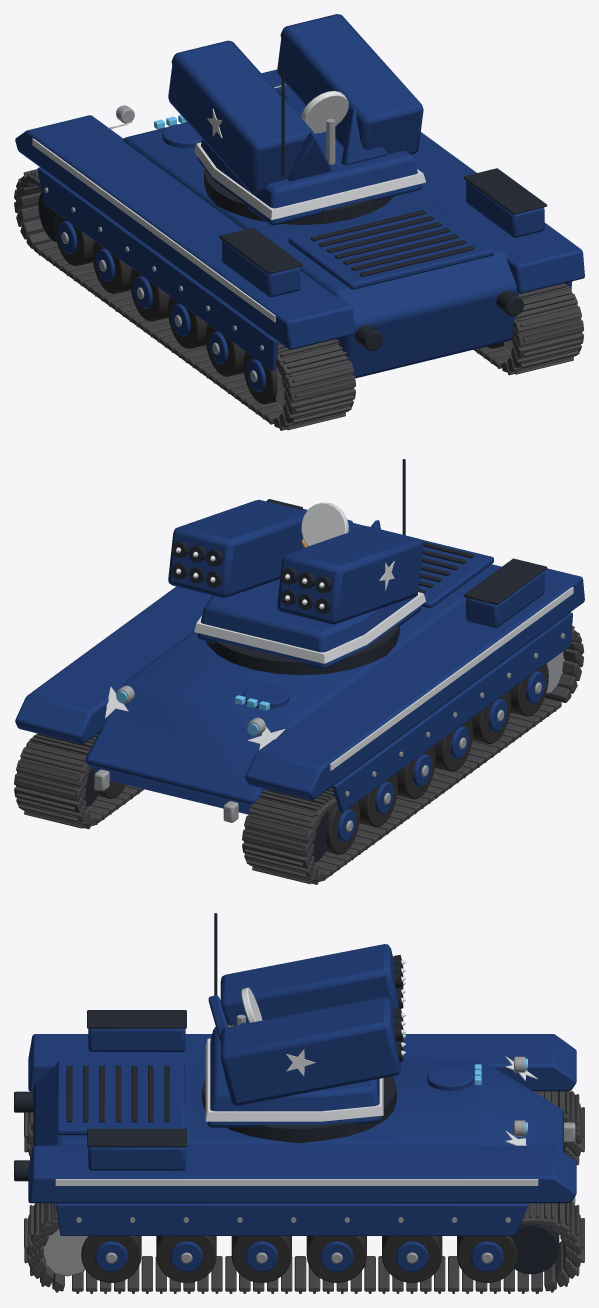
File: shibas_raketen.glb
3 renders of one model, top to bottom at view 1: azimuth 30°, elevation 25°; view 2: azimuth 150°, elevation 25°; view 3: azimuth 270°, elevation 25°, orthographic.
Visible parts, largest first — view 1: hull_core, fender_-1, pod_-1, pod_1, Tracks3, skirt_-1, fender_1, engine_deck, launcher_base, Tracks0, Tracks2, launcher_band (+25 smaller); view 2: hull_core, fender_-1, Tracks0, fender_1, pod_-1, pod_1, skirt_-1, launcher_base, Tracks1, turret_ring, launcher_band, engine_deck (+13 smaller); view 3: fender_1, hull_core, skirt_1, pod_1, Tracks0, fender_-1, pod_-1, engine_deck, launcher_base, fender_trim_1, Tracks3, turret_ring (+22 smaller).
Part boxes in pixels (x1=…): hull_core: x1=123, y1=97, x2=518, y2=378; fender_-1: x1=15, y1=115, x2=354, y2=349; pod_-1: x1=168, y1=40, x2=314, y2=192; pod_1: x1=277, y1=14, x2=423, y2=154; Tracks3: x1=19, y1=175, x2=583, y2=430; skirt_-1: x1=37, y1=167, x2=278, y2=370; fender_1: x1=261, y1=69, x2=584, y2=293; engine_deck: x1=288, y1=204, x2=493, y2=289; launcher_base: x1=197, y1=105, x2=421, y2=225; Tracks0: x1=14, y1=169, x2=563, y2=424; Tracks2: x1=17, y1=174, x2=582, y2=429; launcher_band: x1=194, y1=142, x2=425, y2=219; hull_core: x1=85, y1=564, x2=501, y2=814; fender_-1: x1=245, y1=568, x2=584, y2=800; Tracks0: x1=14, y1=636, x2=578, y2=884; fender_1: x1=15, y1=509, x2=352, y2=743; pod_-1: x1=277, y1=526, x2=423, y2=624; pod_1: x1=168, y1=499, x2=306, y2=597; skirt_-1: x1=332, y1=612, x2=572, y2=812; launcher_base: x1=197, y1=579, x2=421, y2=669; Tracks1: x1=16, y1=635, x2=580, y2=883; turret_ring: x1=206, y1=624, x2=399, y2=675; launcher_band: x1=194, y1=592, x2=425, y2=663; engine_deck: x1=348, y1=523, x2=493, y2=608; fender_1: x1=28, y1=1145, x2=576, y2=1203; hull_core: x1=33, y1=1061, x2=563, y2=1152; skirt_1: x1=56, y1=1203, x2=528, y2=1235; pod_1: x1=220, y1=997, x2=400, y2=1105; Tracks0: x1=38, y1=1091, x2=584, y2=1293; fender_-1: x1=28, y1=1034, x2=576, y2=1091; pod_-1: x1=220, y1=944, x2=399, y2=1025; engine_deck: x1=57, y1=1061, x2=184, y2=1135; launcher_base: x1=207, y1=1027, x2=381, y2=1127; fender_trim_1: x1=55, y1=1179, x2=538, y2=1185; Tracks3: x1=24, y1=1091, x2=570, y2=1293; turret_ring: x1=202, y1=1076, x2=396, y2=1143.
Size of the model in its own units: 1.5 by 1.34 by 2.46.
